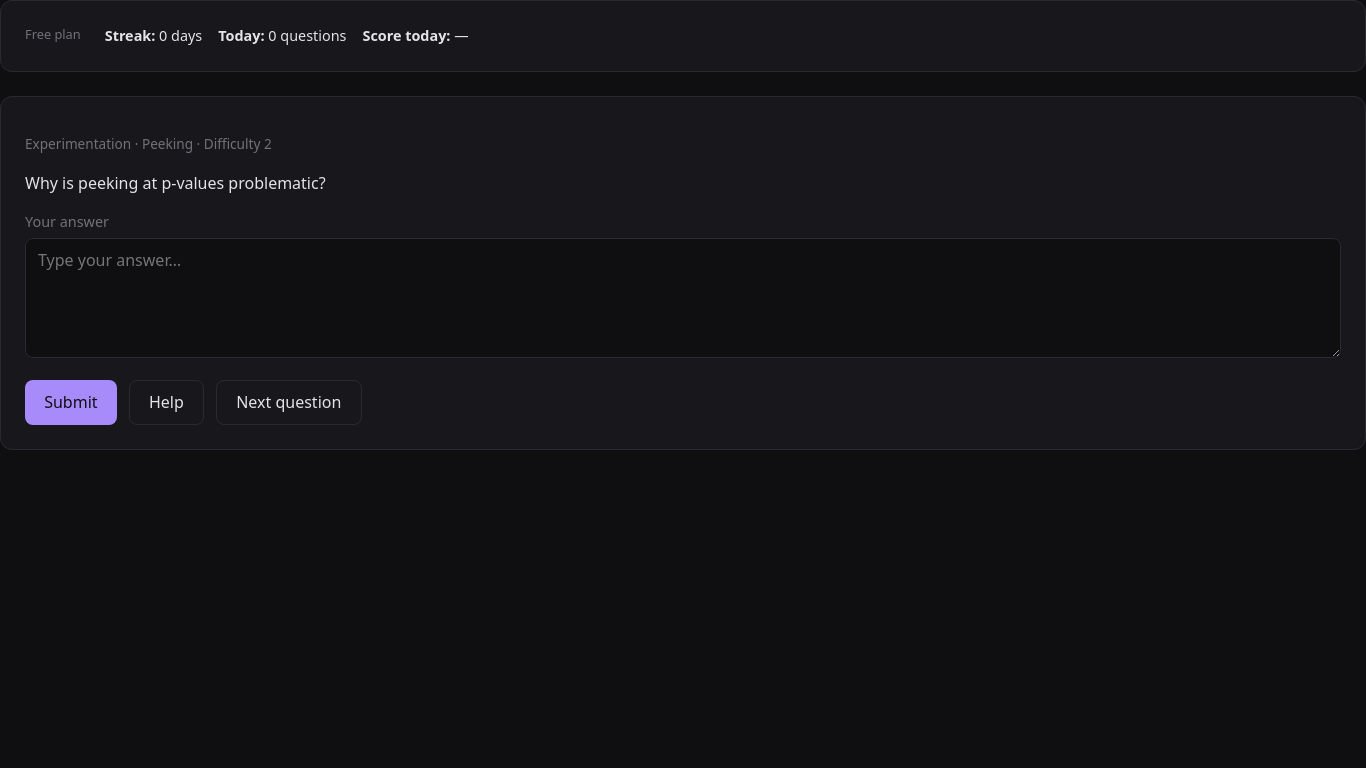
Test: App page feedback › shows the question and submitted answer in feedback after grading
This screenshot has width=1366, height=768.
Check: the text "Why is peeking at p-values problematic?" is shown, box [25, 172, 326, 194]
In the text box labelled "Your answer": (683, 298) [25, 238, 1341, 358], type "Peeking increases false positives by repeated testing."
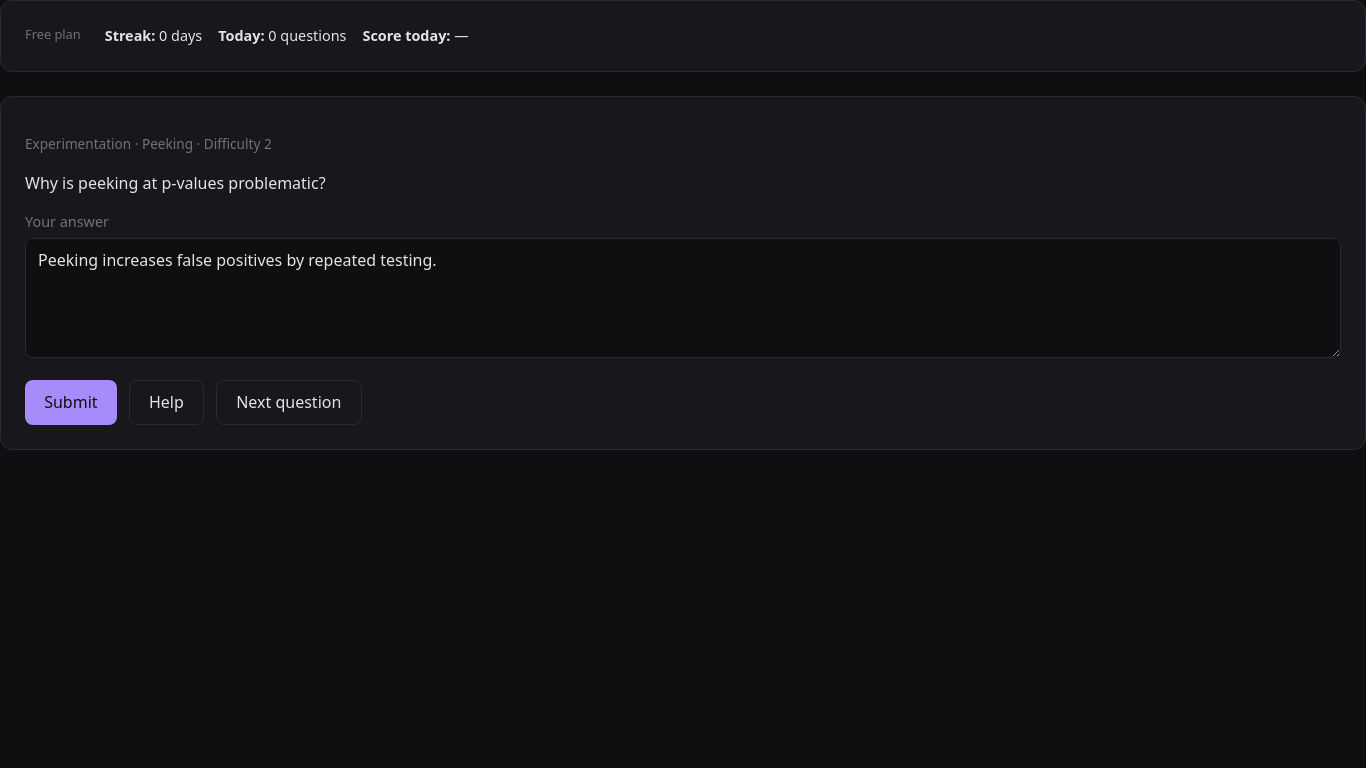
Click the button "Submit": (71, 402) [25, 380, 117, 425]
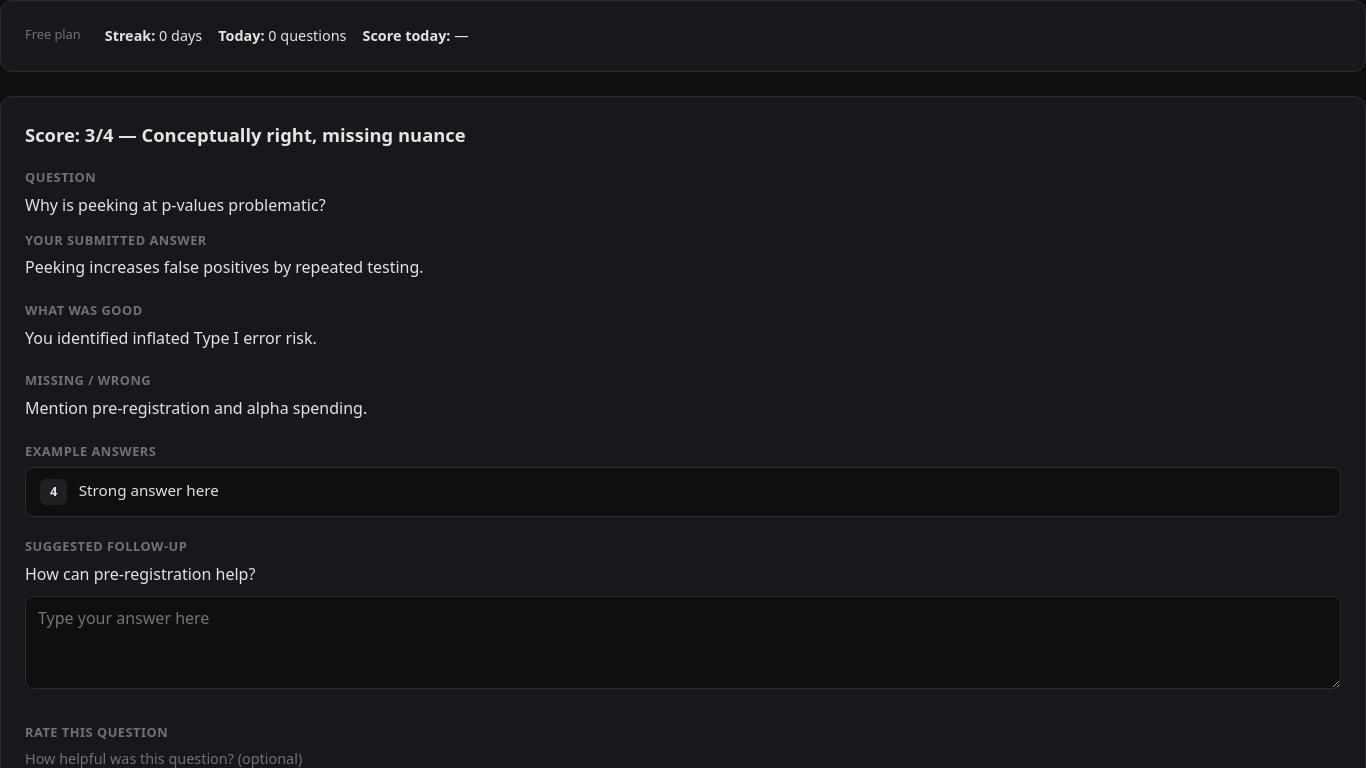
Check: the heading "Your submitted answer" is shown, box [25, 231, 207, 249]
Check: the heading "Question" is shown, box [25, 168, 96, 186]
Check: the text "Peeking increases false positives by repeated testing." is shown, box [25, 256, 424, 278]
